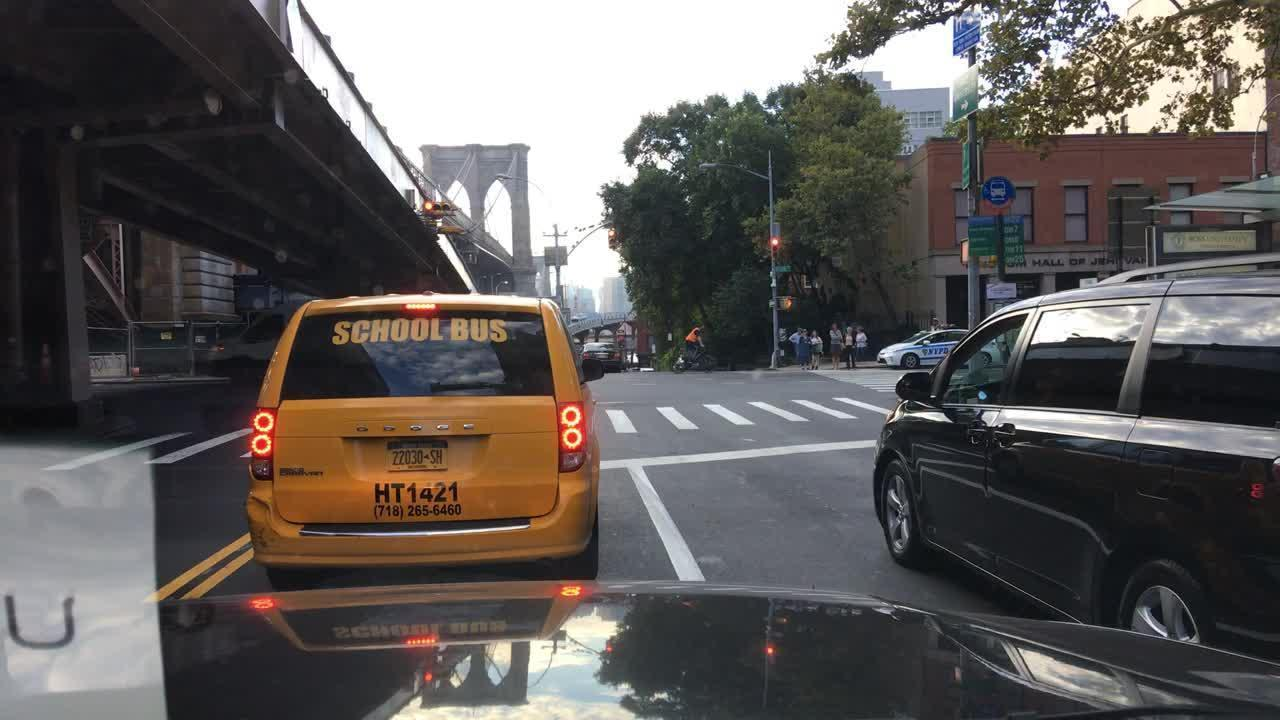dodge: (343, 418, 481, 436)
